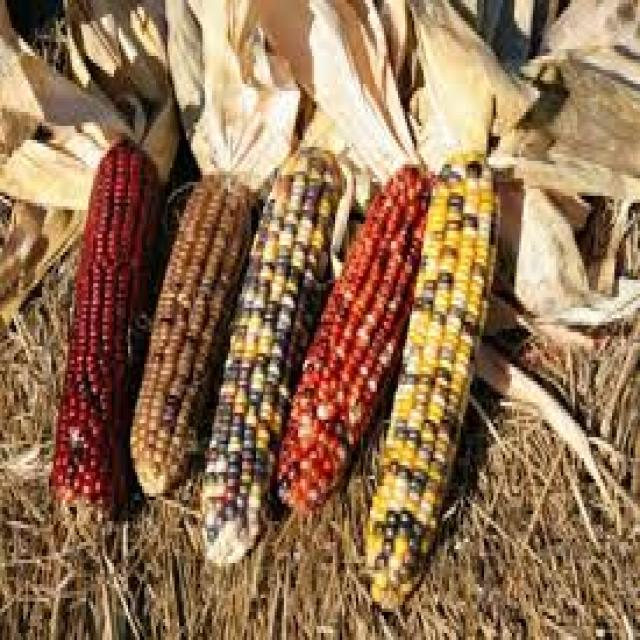discolored corn: (398, 129, 578, 616), (284, 138, 399, 521), (132, 156, 248, 504), (235, 141, 324, 594), (54, 121, 138, 518)
